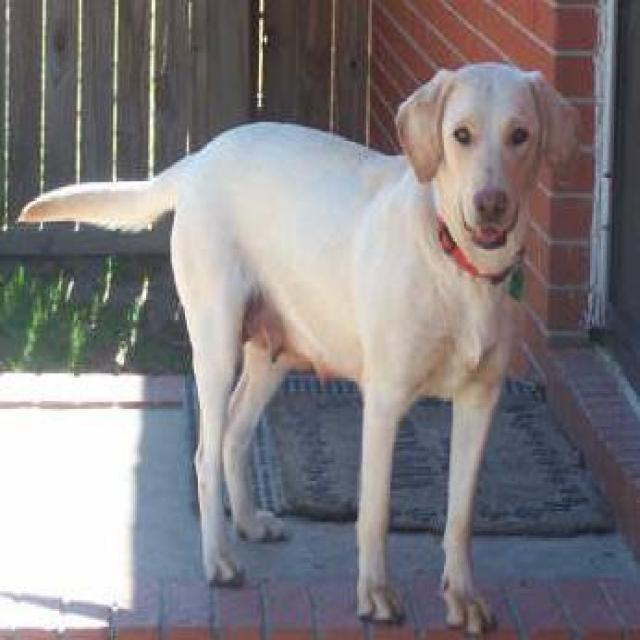Dog: (394, 51, 579, 262)
